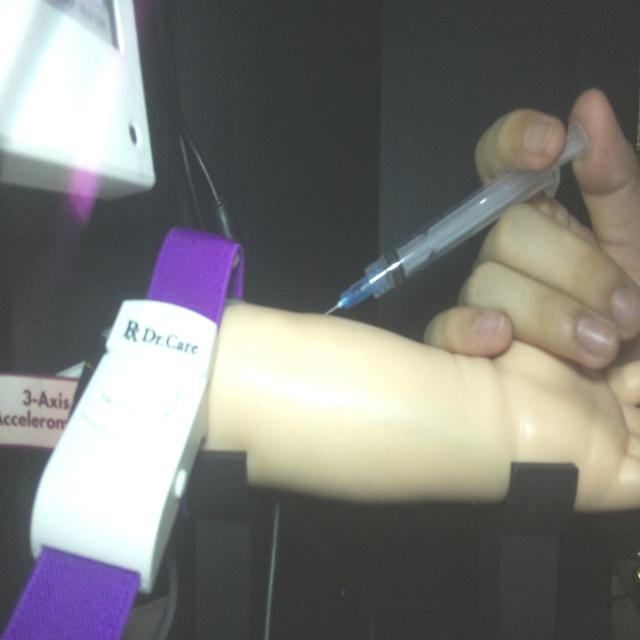26 degrees: (322, 119, 590, 318)
